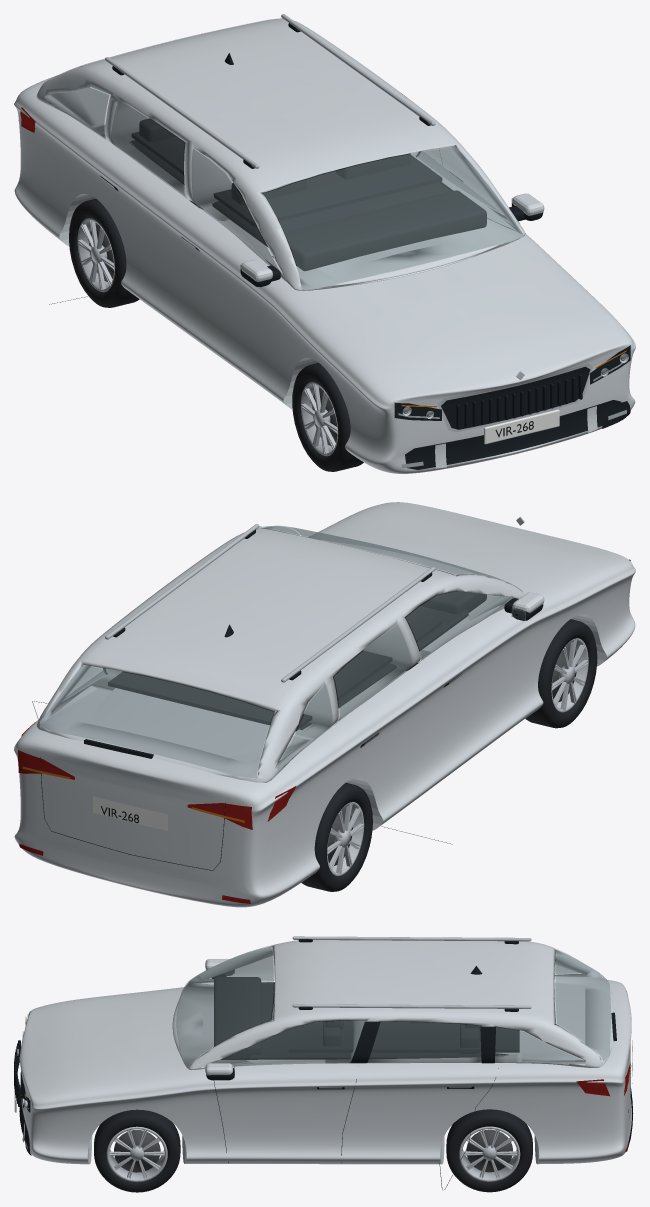
3 renders of one model, top to bottom at view 1: azimuth 30°, elevation 25°; view 2: azimuth 150°, elevation 25°; view 3: azimuth 270°, elevation 25°, orthographic. The views are drawn at different scales.
Parts seen in each view (by area): view 1: body, wheel_FL, wheel_RL; view 2: body, wheel_FL, wheel_RL; view 3: body, wheel_RR, wheel_FR.
Part boxes in pixels (left/top/right/bottom): body: left=14, top=14, right=635, bottom=473; wheel_FL: left=292, top=362, right=363, bottom=471; wheel_RL: left=69, top=198, right=139, bottom=307; body: left=14, top=502, right=635, bottom=907; wheel_FL: left=525, top=619, right=597, bottom=728; wheel_RL: left=301, top=782, right=372, bottom=891; body: left=14, top=936, right=633, bottom=1189; wheel_RR: left=446, top=1109, right=532, bottom=1192; wheel_FR: left=94, top=1109, right=180, bottom=1192.
Size of the model in its own units: 2.8 by 1.51 by 4.74.
